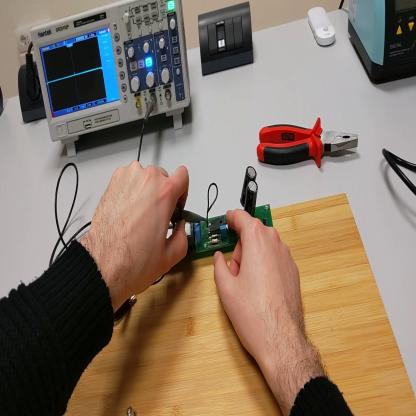hand: (214, 207, 309, 371), (92, 159, 190, 299)
high voltage board: (167, 166, 274, 257)
oscilloscope: (31, 3, 192, 160)
oscilloscope probe tip: (168, 205, 208, 226)
pliers: (259, 112, 363, 174)
socket: (17, 62, 49, 128)
welder station: (349, 3, 416, 86)
working area: (62, 196, 415, 413)
